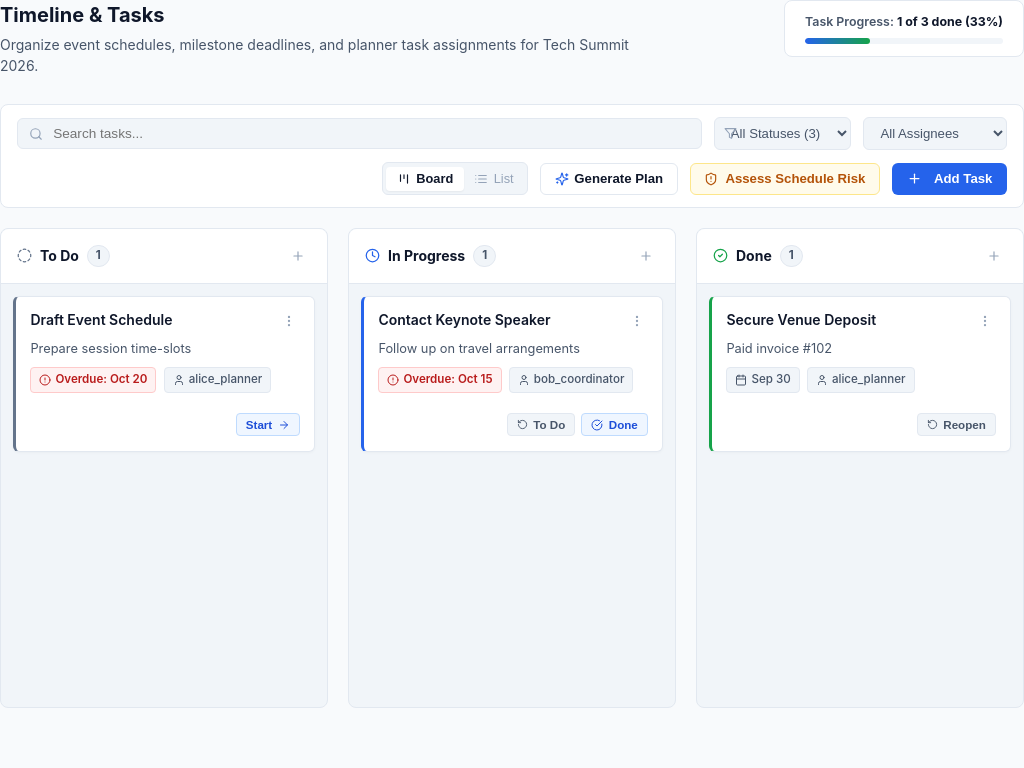
Test: EventTimelineTab & Task Management (Epic 3.3) › renders Assess Schedule Risk button and opens RiskAssessmentModal
// Click button to open modal
Click the button with test id "assess-risk-btn" at (785,179), box [690,163,880,195]
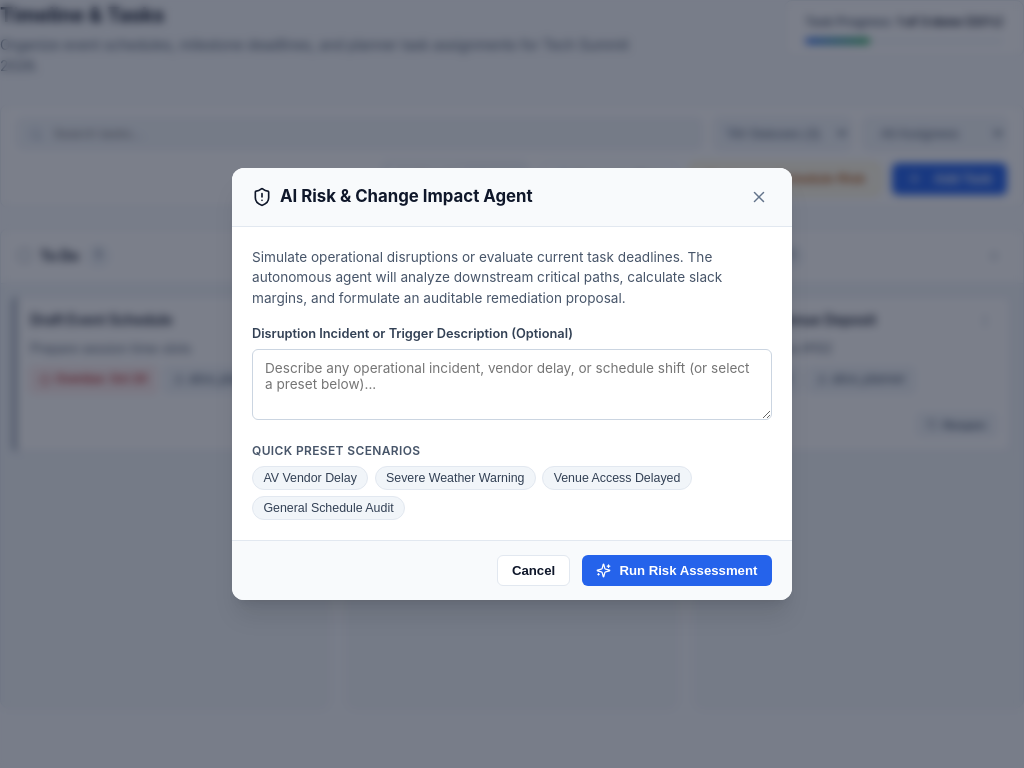
Check: the dialog is shown
Check: the text "AI Risk & Change Impact Agent" is shown, box [280,184,533,210]
